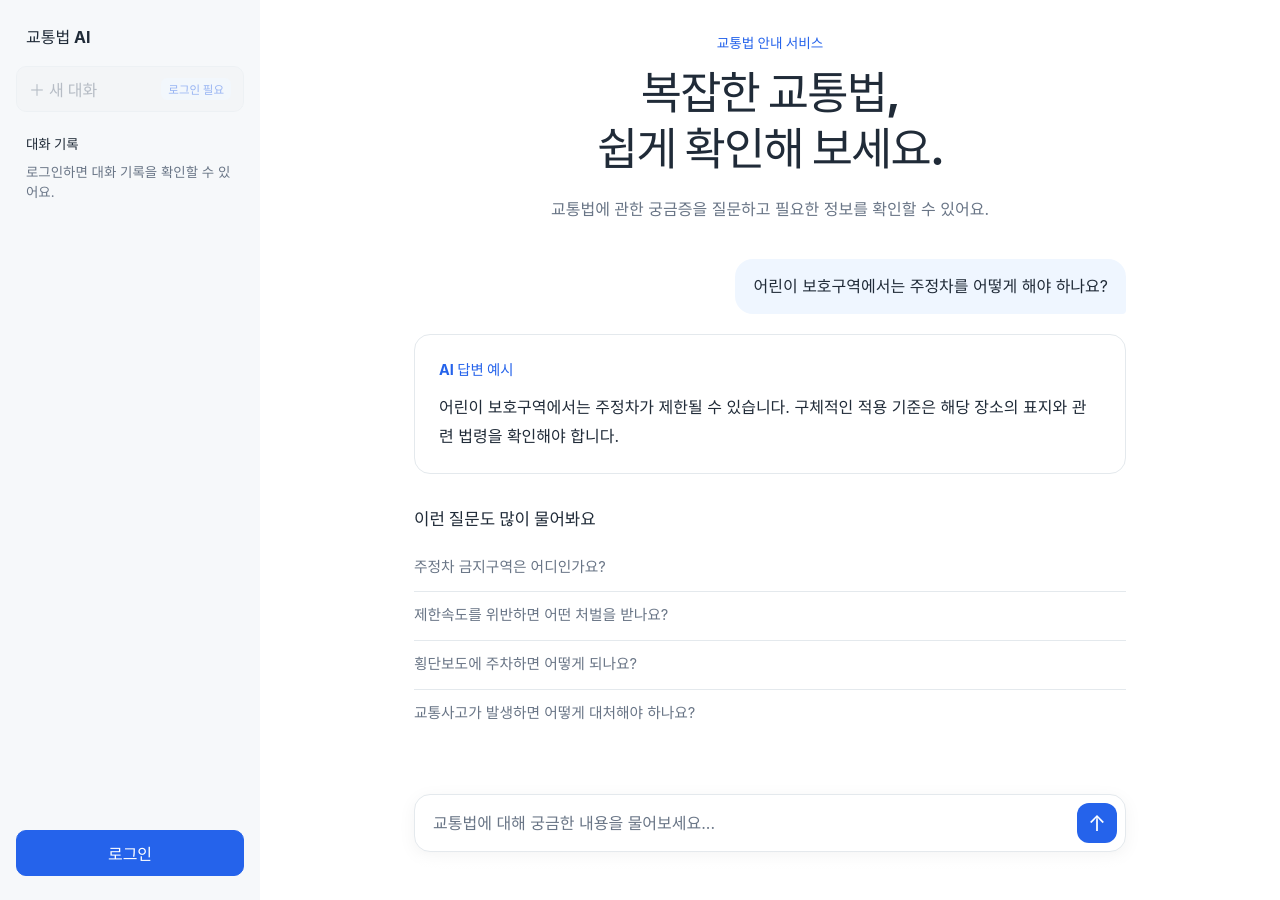
Scenario: 질문 입력 영역을 클릭하면 로그인 모달이 열린다
Click the field named "질문하려면 로그인 또는 회원가입이 필요합니다".
click(745, 823)  # box [423,803,1067,843]
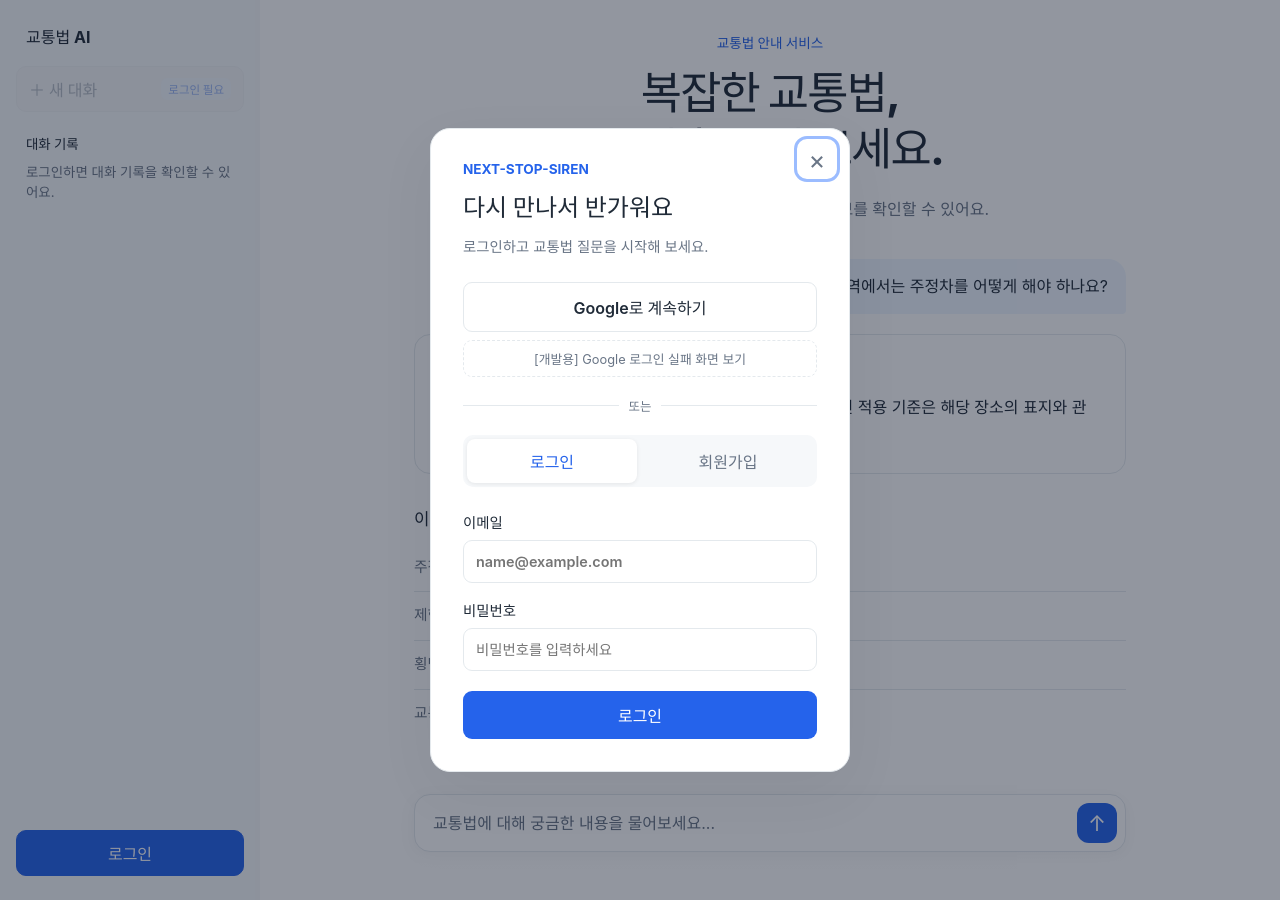
Result: the dialog is shown at [430,128,850,772]
Result: the button "회원가입" is shown at [643,439,813,483]
